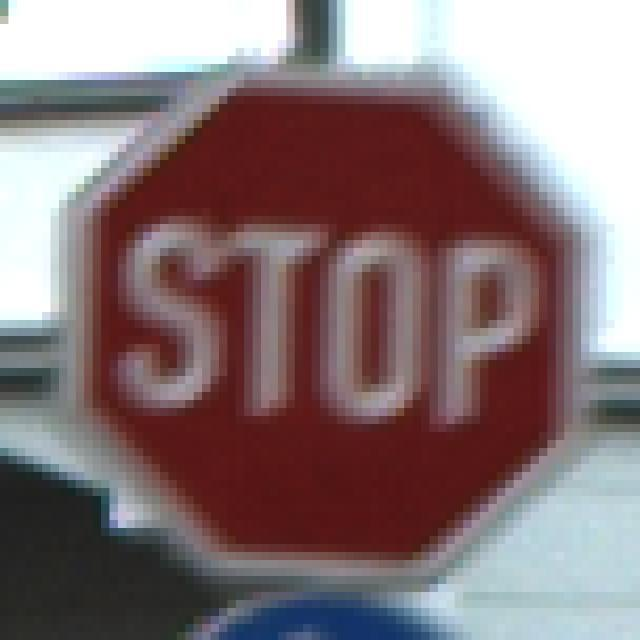stop: (40, 59, 596, 588)
